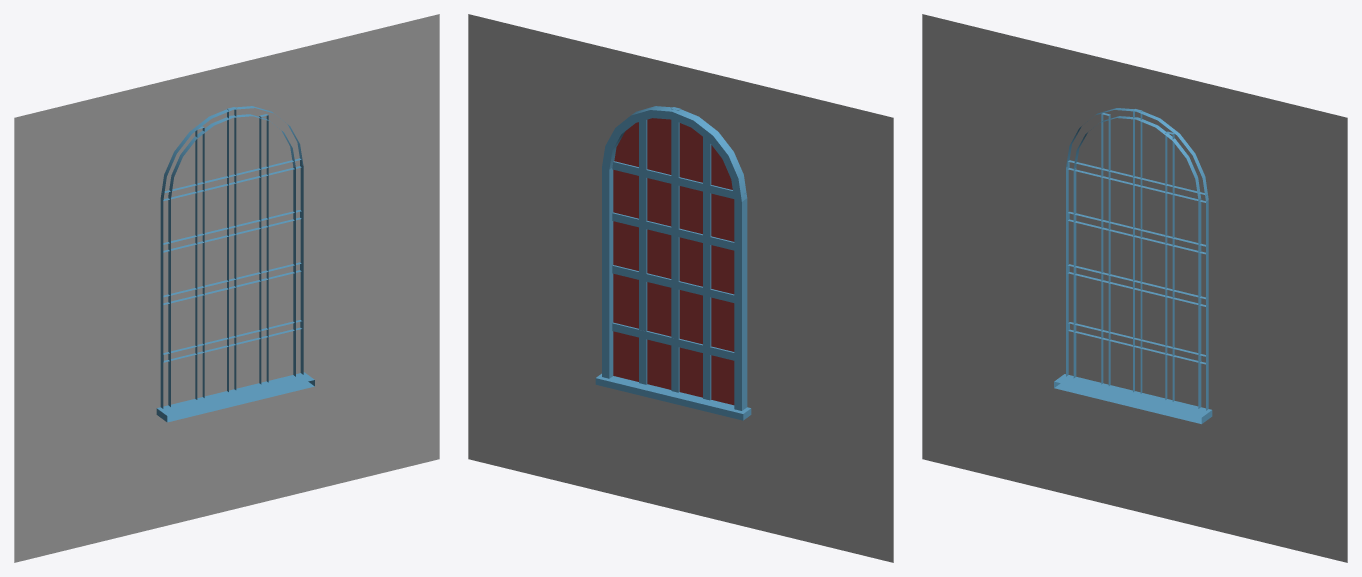
The model's file is Prop_WallExtWindow3x3_01.fbx.
3 views of the same model, side by side, from view 1: azimuth 30°, elevation 25°; view 2: azimuth 150°, elevation 25°; view 3: azimuth 330°, elevation 25° (orthographic).
Visible parts, largest first — view 1: polySurface5; view 2: polySurface5; view 3: polySurface5.
Boxes of the visible parts, x1=… form: polySurface5: x1=14, y1=14, x2=439, y2=562; polySurface5: x1=468, y1=14, x2=893, y2=562; polySurface5: x1=922, y1=14, x2=1347, y2=562.
Size of the model in its own units: 3 by 3 by 0.2277.
